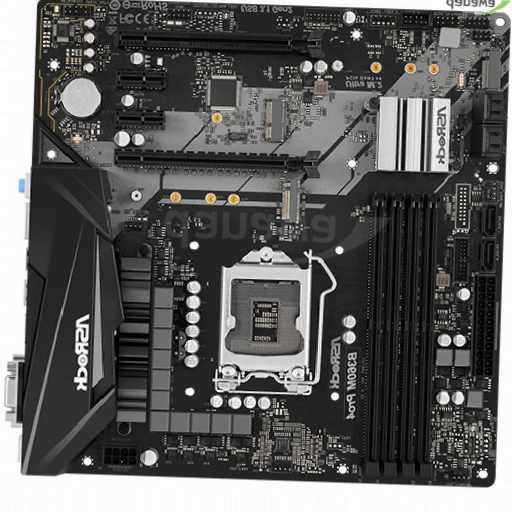CPU: (221, 247, 312, 394)
GPU: (113, 147, 323, 177), (116, 28, 326, 57)
MOTHERBOARD: (22, 1, 509, 487)
RAM: (361, 193, 439, 480)
SSD: (280, 176, 304, 228), (264, 100, 286, 142)
